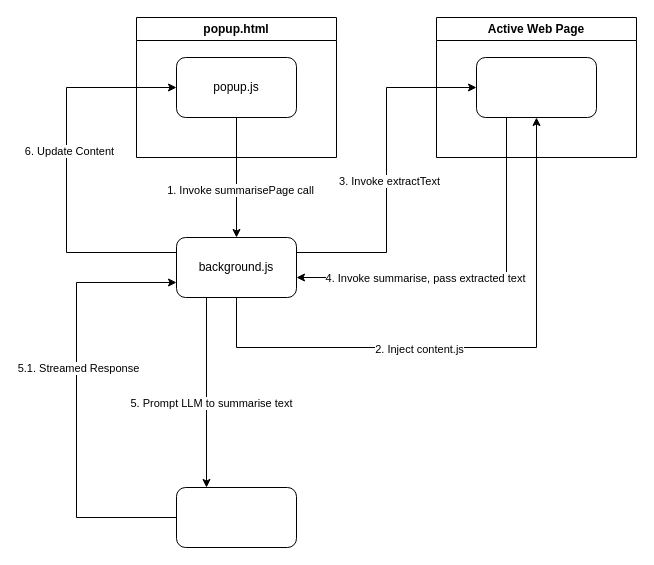
Image size: 654x565. Some labels were removed from this diagram. The centre of each missing label's shape, as x and y in pixels:
content.js: the point at 536,87
Ollama REST API: the point at 236,517
